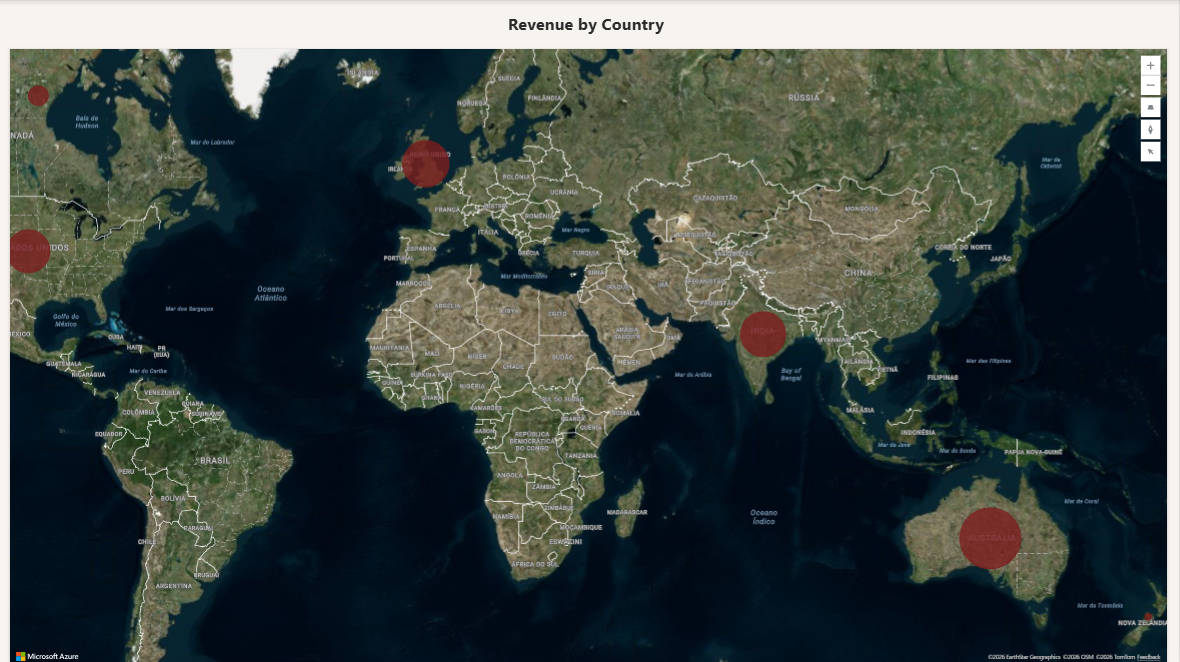

The page's visual inventory and layout, read from the dashboard file:
{"tool":"powerbi","page":{"name":"Map","canvas":[1920,1080],"ordinal":3},"visuals":[{"type":"azureMap","fields":{"Category":["choco_sales (1).Country"],"Size":["Measure Table.Total Revenue"]},"box":[19.5,80,1881.1,997.9],"z":0},{"type":"textbox","box":[829.5,20,261.1,40],"z":1000}]}

Visuals, with their boxes in screenshot pixels (x1, y1, x2, y2), scaled from the page's 1920x1080 canvas onto the 1180x662 screenshot:
azureMap - choco_sales (1).Country x Measure Table.Total Revenue: [12, 49, 1168, 661]
textbox: [510, 12, 670, 37]
